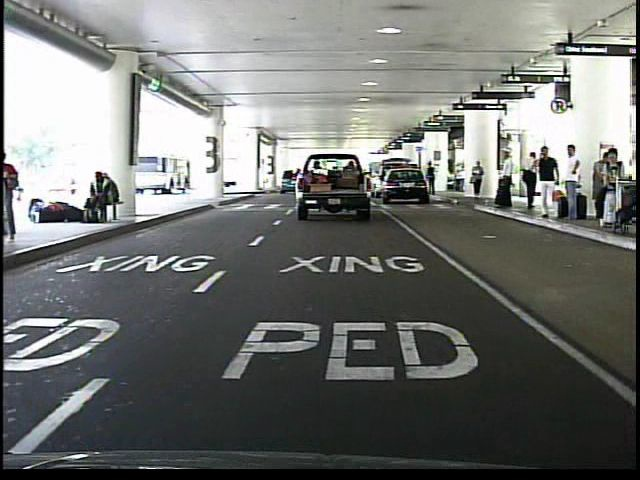person: (562, 139, 588, 230), (534, 143, 562, 222), (492, 149, 518, 213), (517, 146, 540, 212), (470, 159, 486, 202), (426, 160, 438, 198)
